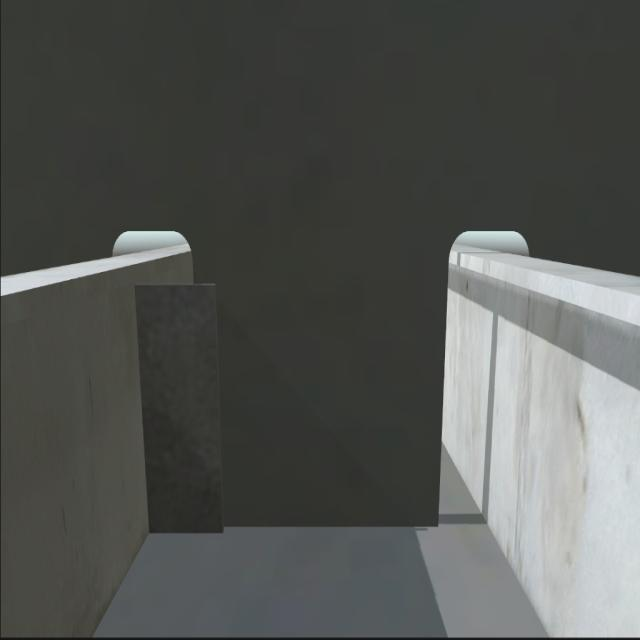fillet_yong_jeop_jang: (148, 514, 446, 540)
longi_yong_jeop_jang: (129, 272, 159, 533)
plate_CP01: (135, 289, 229, 535)
